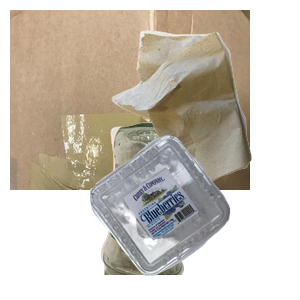cardboard: (10, 10, 250, 190)
glass: (98, 120, 286, 300)
plastic: (88, 133, 300, 300)
trash: (109, 28, 300, 208)
